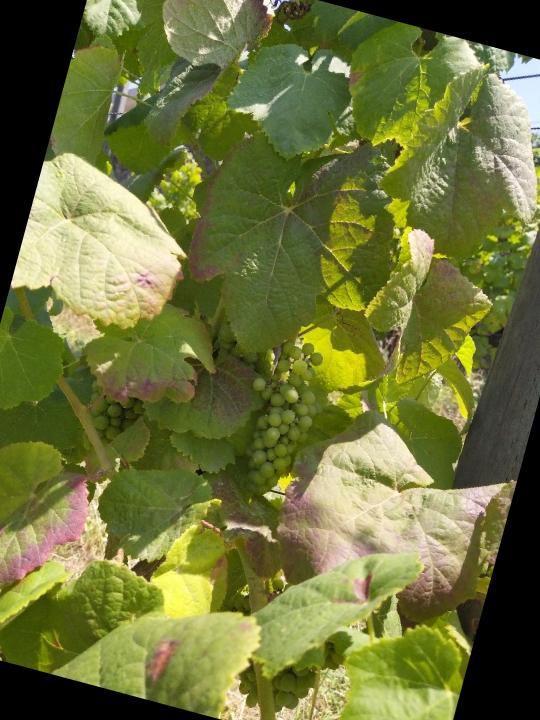grape: (225, 330, 336, 505)
